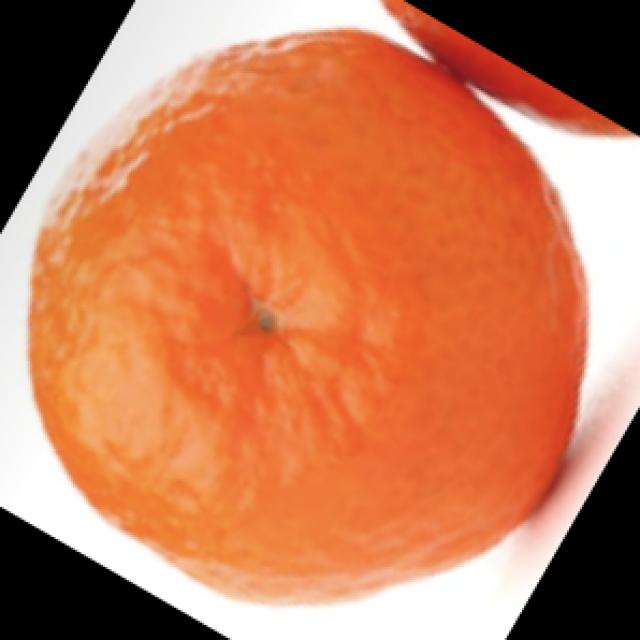fresh: (24, 43, 589, 610)
